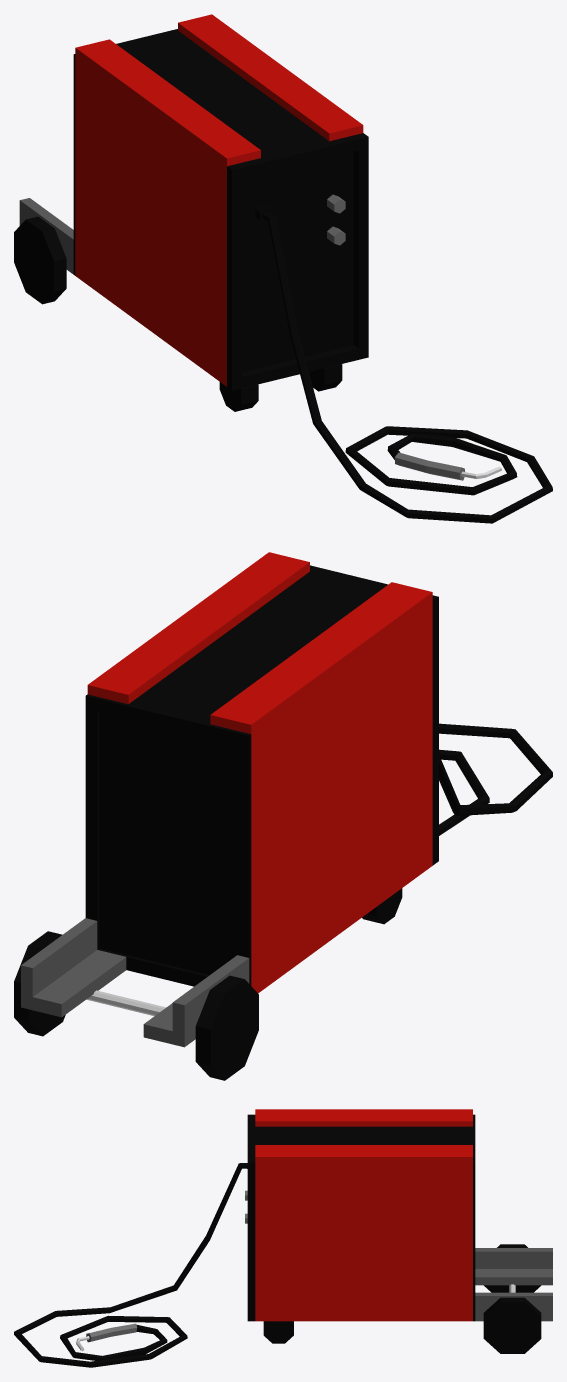
Rendered from Me_WeldingMachine.fbx.
3 renders of one model, top to bottom at view 1: azimuth 30°, elevation 25°; view 2: azimuth 150°, elevation 25°; view 3: azimuth 270°, elevation 25°, orthographic. The views are drawn at different scales.
Parts seen in each view (by area): view 1: Me_WeldingMachine; view 2: Me_WeldingMachine; view 3: Me_WeldingMachine.
Part boxes in pixels (x1=…): Me_WeldingMachine: x1=14, y1=14, x2=552, y2=523; Me_WeldingMachine: x1=14, y1=552, x2=552, y2=1080; Me_WeldingMachine: x1=14, y1=1109, x2=552, y2=1367.
Bounding box in the file's own units: 473 × 1486 × 588.
